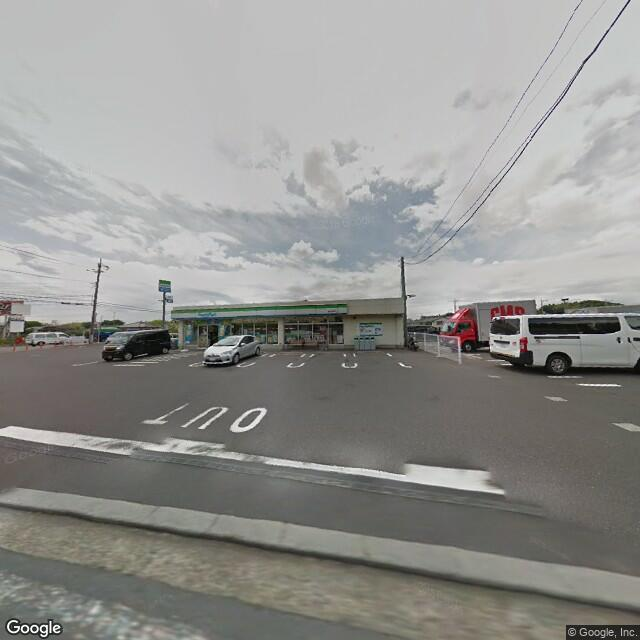family_mart: (170, 300, 350, 324), (157, 276, 172, 294)
